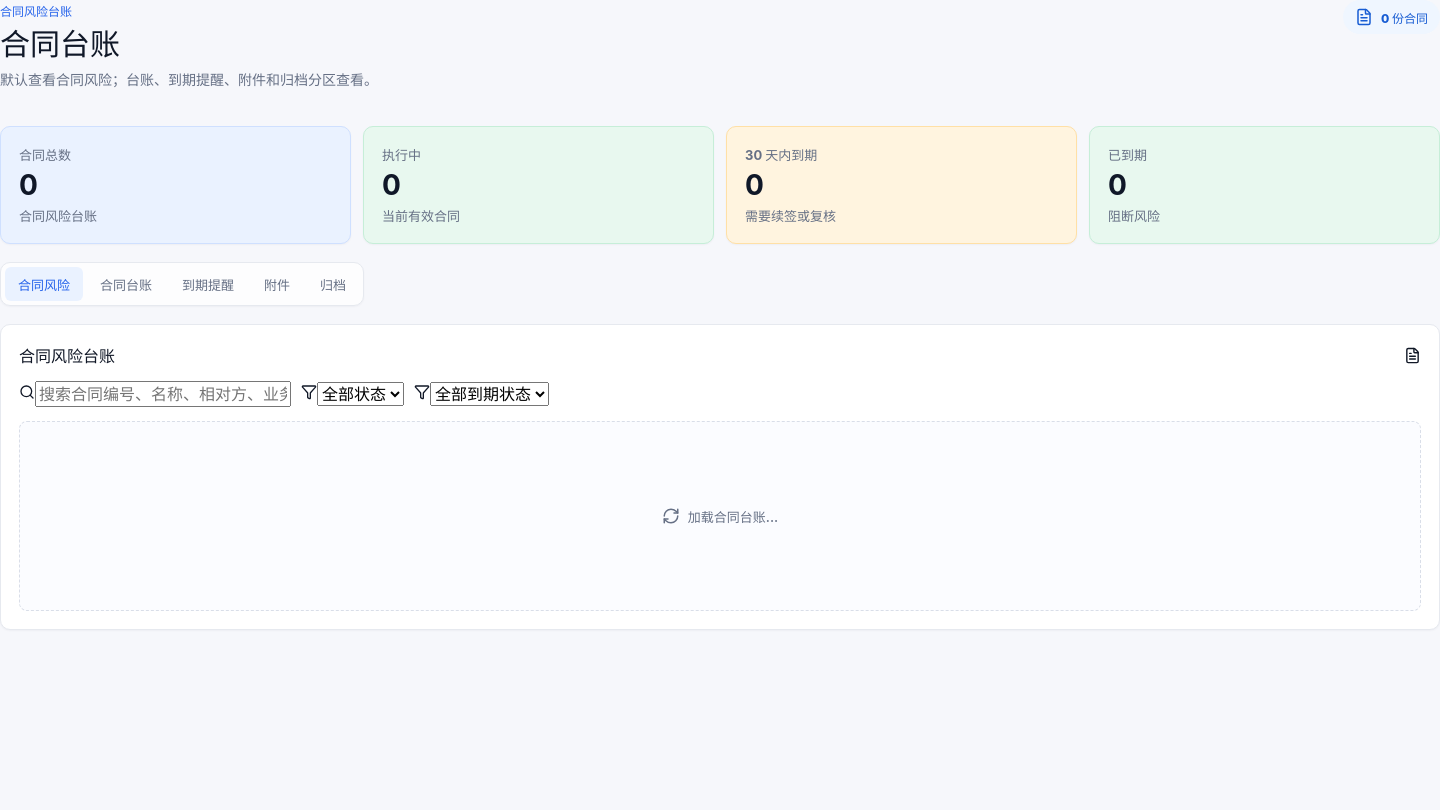
Test: ContractsWorkspace 行内校验 › 必填为空时显示行内错误且不调接口
Click the tab "合同台账": click(126, 284) [87,268,165,302]
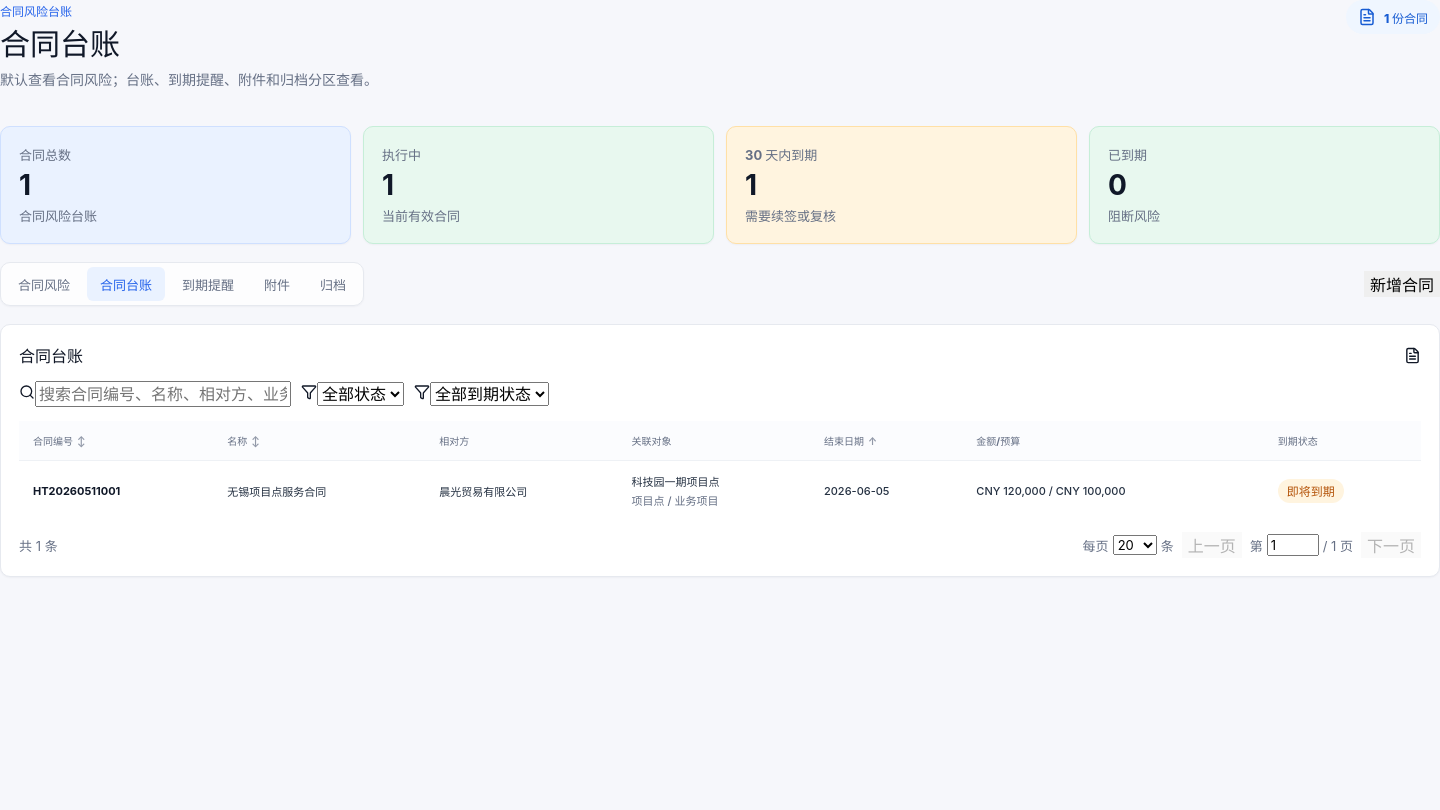
Now the text "HT20260511001" is shown, box [19,461,217,520]
Click the button "新增合同": click(1402, 284) [1364,272,1439,298]
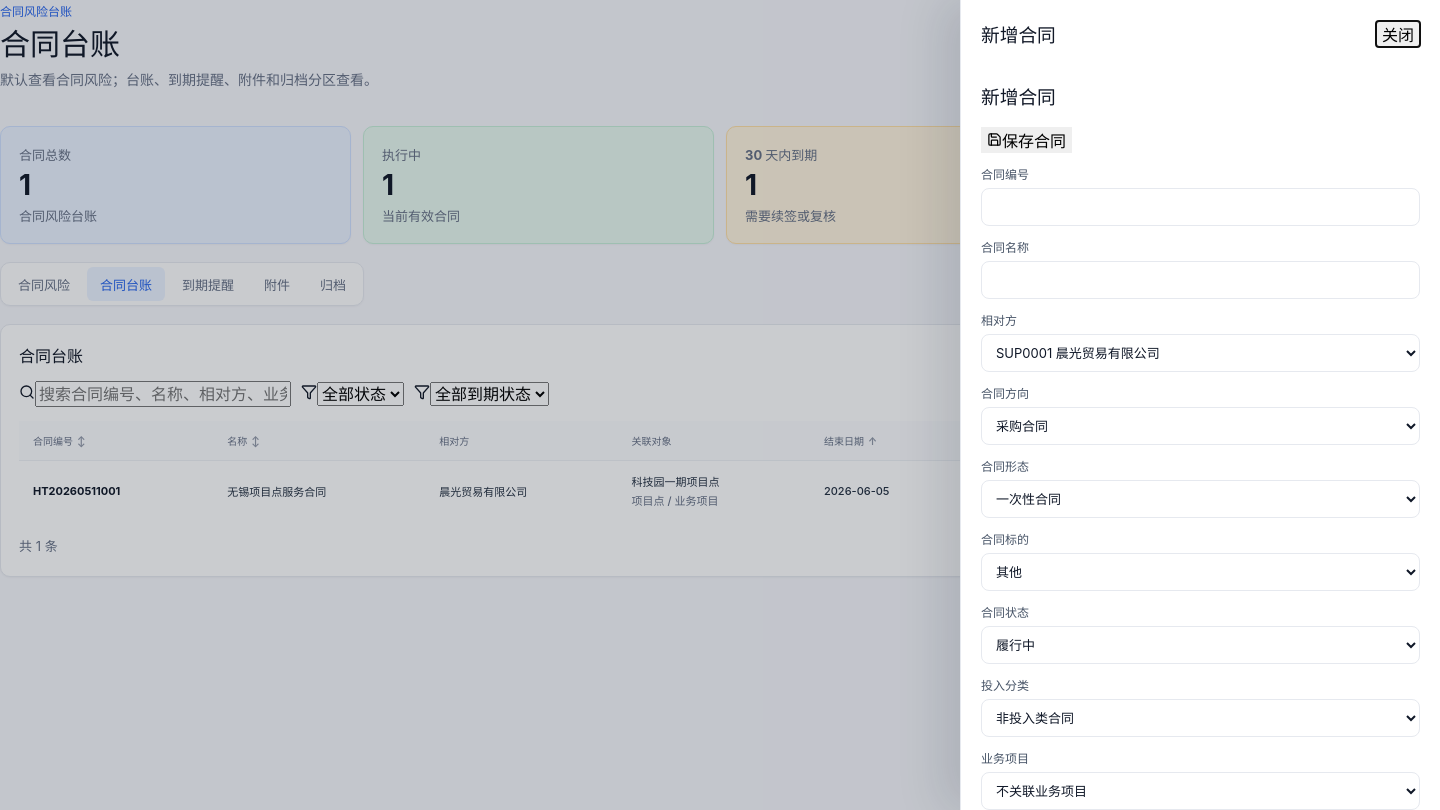
Click the button "保存合同": click(1026, 140) [981,127,1072,153]
(page scrolled)
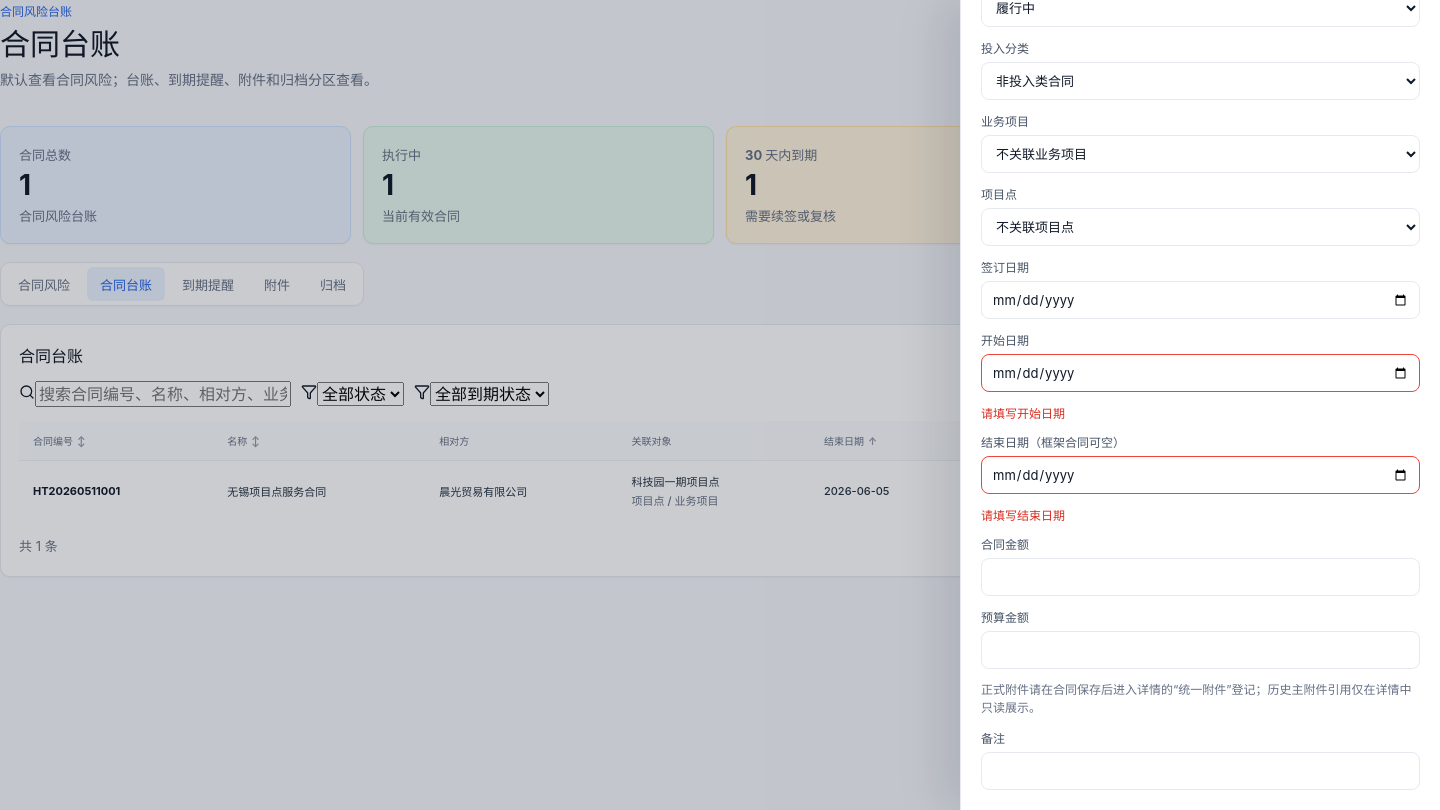
Now the text "请填写开始日期" is shown, box [981,406,1065,421]
Now the text "请填写结束日期" is shown, box [981,508,1065,523]
